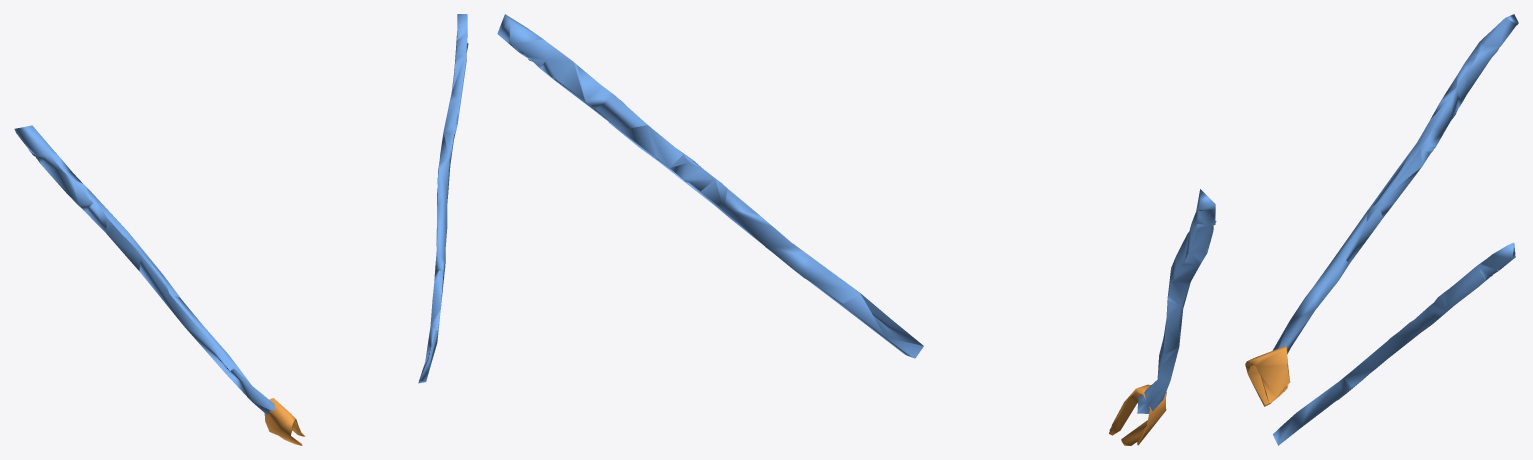
File: supplement-head-neck-connective-LAX27THG.glb
The picture shows the model from 3 angles, left to right: view 1: azimuth 30°, elevation 25°; view 2: azimuth 150°, elevation 25°; view 3: azimuth 270°, elevation 25°; orthographic projection. The views are drawn at different scales.
Parts seen in each view (by area): view 1: supplemental:stylohyoid-ligament:isa:FJ2764, supplemental:stylohyoid-ligament:isa:FJ2763, supplemental:intermediate-tendon:isa:FJ1581; view 2: supplemental:stylohyoid-ligament:isa:FJ2763, supplemental:stylohyoid-ligament:isa:FJ2764, supplemental:intermediate-tendon:isa:FJ1581; view 3: supplemental:stylohyoid-ligament:isa:FJ2764, supplemental:stylohyoid-ligament:isa:FJ2763, supplemental:intermediate-tendon:isa:FJ1581.
Part boxes in pixels (bbox=[...]): supplemental:stylohyoid-ligament:isa:FJ2764: bbox=[14, 125, 274, 415]; supplemental:stylohyoid-ligament:isa:FJ2763: bbox=[418, 14, 468, 383]; supplemental:intermediate-tendon:isa:FJ1581: bbox=[264, 398, 305, 445]; supplemental:stylohyoid-ligament:isa:FJ2763: bbox=[497, 14, 923, 358]; supplemental:stylohyoid-ligament:isa:FJ2764: bbox=[1137, 189, 1216, 413]; supplemental:intermediate-tendon:isa:FJ1581: bbox=[1109, 384, 1166, 445]; supplemental:stylohyoid-ligament:isa:FJ2764: bbox=[1272, 14, 1518, 353]; supplemental:stylohyoid-ligament:isa:FJ2763: bbox=[1273, 242, 1515, 445]; supplemental:intermediate-tendon:isa:FJ1581: bbox=[1245, 346, 1290, 406].
Bounding box in the file's own units: 0.0829 × 0.0495 × 0.0398.
